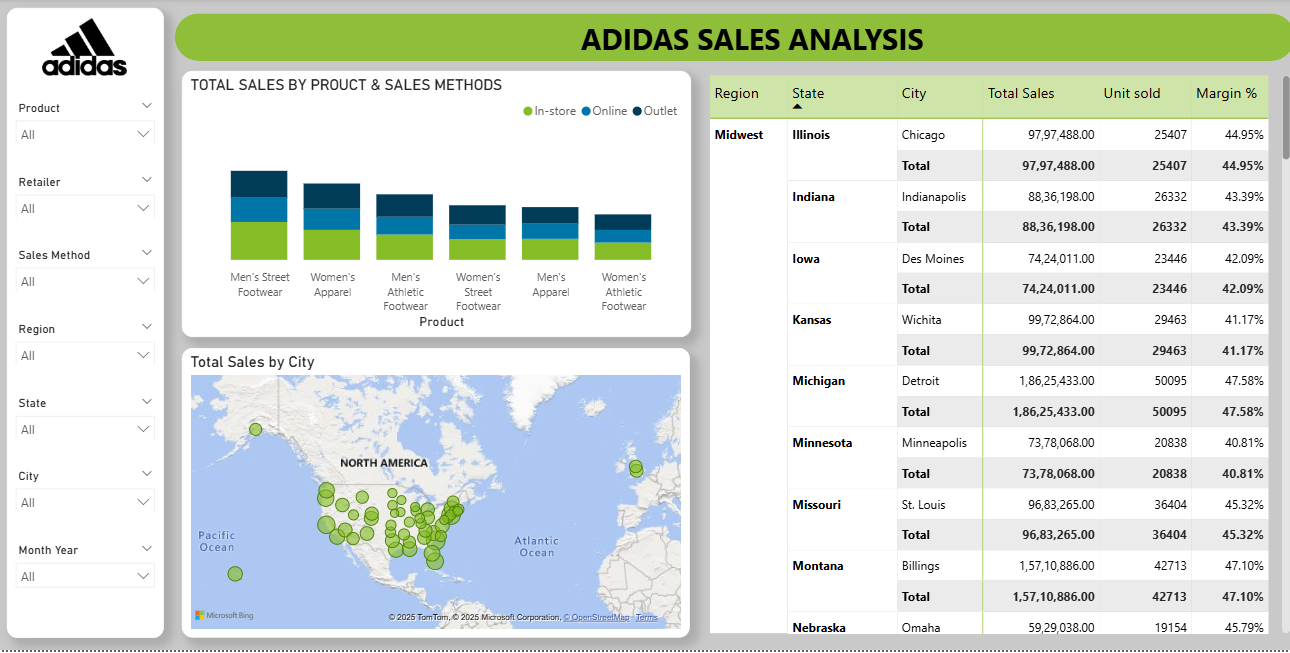

The dashboard page shown, as its layout file describes it:
{"tool":"powerbi","page":{"name":"Sales Analysis","canvas":[1450,720],"ordinal":1},"visuals":[{"type":"columnChart","title":"TOTAL SALES BY PROUCT & SALES METHODS","fields":{"Category":["Data Sales Adidas.Product"],"Y":["Sum(Data Sales Adidas.Total Sales)"],"Series":["Data Sales Adidas.Sales Method"]},"box":[203.9,80.5,562.8,294.4],"z":4000},{"type":"map","fields":{"Category":["Data Sales Adidas.City"],"Size":["measure.Total Sales"]},"box":[204.2,386.8,561.6,320.2],"z":5000},{"type":"pivotTable","title":"TOP-5 PERFORMING CITIES","fields":{"Rows":["Data Sales Adidas.Region","Data Sales Adidas.State","Data Sales Adidas.City"],"Values":["measure.Total Sales","measure.Unit sold","measure.Operating Margin"]},"box":[782.8,80.4,651.3,626.5],"z":8000},{"type":"shape","box":[10.8,10.8,173.3,696.2],"z":9000},{"type":"slicer","fields":{"Values":["Data Sales Adidas.Product"]},"box":[10.8,108.3,173.3,52.6],"z":10000,"group":"g1"},{"type":"image","box":[44.9,0,103.7,108.3],"z":10000},{"type":"shape","box":[196.5,17,1237.6,52.6],"z":11000},{"type":"slicer","fields":{"Values":["Data Sales Adidas.Retailer"]},"box":[10.8,189.8,173.3,52.6],"z":11000,"group":"g1"},{"type":"textbox","box":[538.4,18.6,592.5,61.9],"z":12000},{"type":"slicer","fields":{"Values":["Data Sales Adidas.Sales Method"]},"box":[10.8,271.3,173.3,52.6],"z":12000,"group":"g1"},{"type":"group","id":"g1","title":"Group 1","box":[10.8,108.3,173.3,555.4],"z":13000},{"type":"slicer","fields":{"Values":["Data Sales Adidas.State"]},"box":[10.8,434.2,173.3,52.6],"z":13000,"group":"g1"},{"type":"slicer","fields":{"Values":["Data Sales Adidas.Region"]},"box":[10.8,352.7,173.3,52.6],"z":14000,"group":"g1"},{"type":"slicer","fields":{"Values":["Data Sales Adidas.City"]},"box":[10.8,515.7,173.3,52.6],"z":15000,"group":"g1"},{"type":"slicer","fields":{"Values":["Data Sales Adidas.Month Year"]},"box":[10.8,597.2,173.3,66.5],"z":16000,"group":"g1"}]}

Visuals, with their boxes on the page's 1450x720 design canvas (x1, y1, x2, y2). These are canvas units, not pixel positions in the 1290x653 screenshot, which may show the page scaled, cropped or inside an application window:
"TOTAL SALES BY PROUCT & SALES METHODS" columnChart: 204:80:767:375
map - Data Sales Adidas.City x measure.Total Sales: 204:387:766:707
"TOP-5 PERFORMING CITIES" pivotTable: 783:80:1434:707
shape: 11:11:184:707
slicer - Data Sales Adidas.Product: 11:108:184:161
image: 45:0:149:108
shape: 196:17:1434:70
slicer - Data Sales Adidas.Retailer: 11:190:184:242
textbox: 538:19:1131:80
slicer - Data Sales Adidas.Sales Method: 11:271:184:324
"Group 1" group: 11:108:184:664
slicer - Data Sales Adidas.State: 11:434:184:487
slicer - Data Sales Adidas.Region: 11:353:184:405
slicer - Data Sales Adidas.City: 11:516:184:568
slicer - Data Sales Adidas.Month Year: 11:597:184:664
